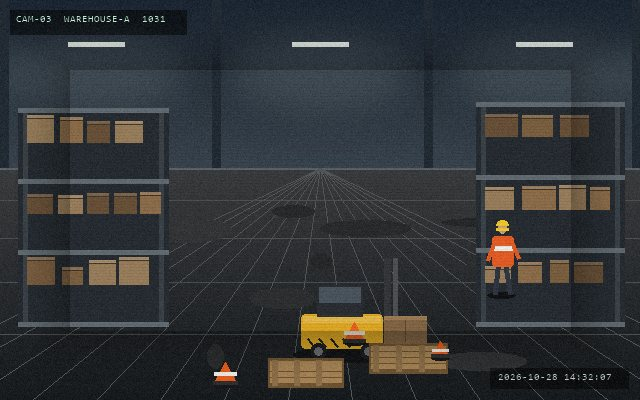cone: (212, 360, 238, 387), (342, 320, 366, 345), (430, 339, 450, 360)
forklift: (297, 256, 425, 362)
pallet: (367, 341, 449, 375), (266, 356, 345, 389)
person: (486, 218, 520, 297)
shelf: (476, 102, 624, 322), (18, 108, 168, 322), (19, 108, 169, 322)
